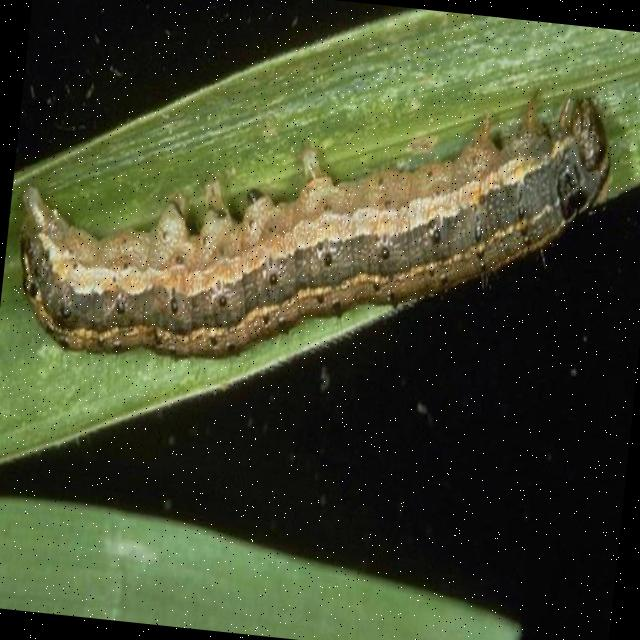worm: (5, 36, 620, 410)
